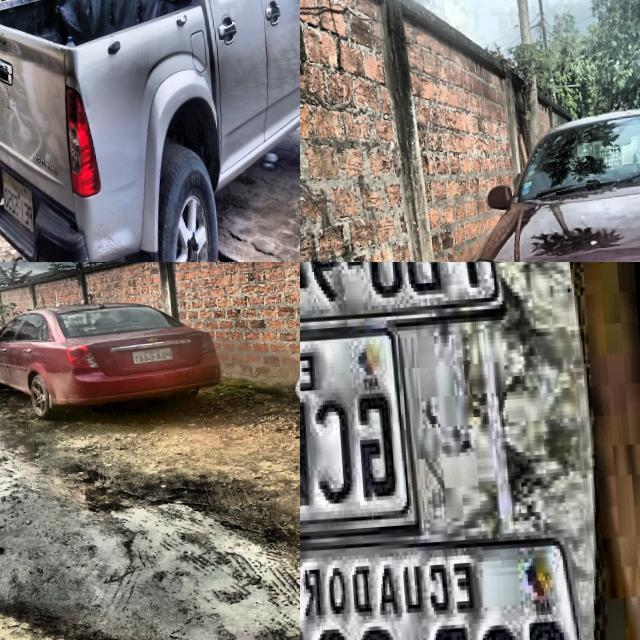license_plate: (300, 519, 597, 640), (300, 321, 428, 547), (300, 262, 509, 326), (1, 167, 33, 234), (130, 346, 174, 365)
